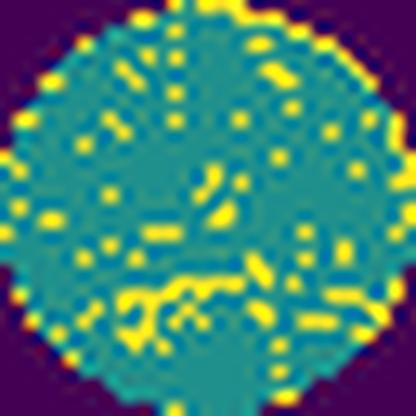Scratch: (114, 271, 250, 362)
